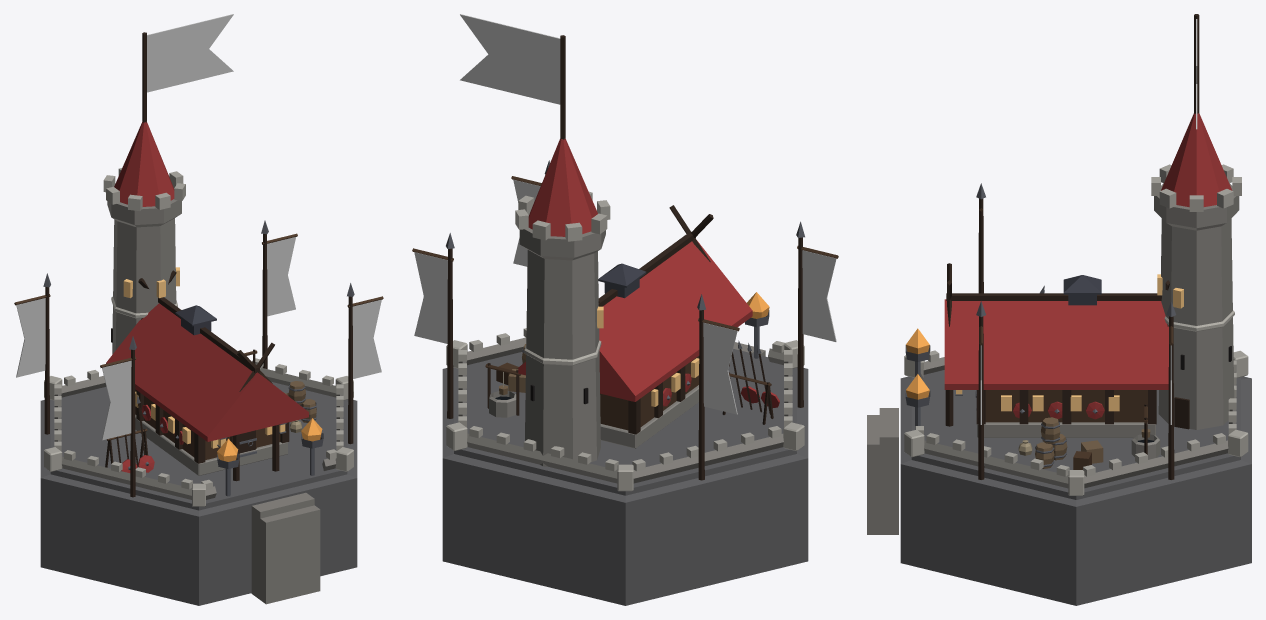
Rendered from hall.glb.
3 views of the same model, side by side, from view 1: azimuth 30°, elevation 25°; view 2: azimuth 150°, elevation 25°; view 3: azimuth 270°, elevation 25° (orthographic). The views are drawn at different scales.
Visible parts, largest first — view 1: hall, hall close!fine, great banner, corner banner 0, corner banner 2, corner banner 3, corner banner 1; view 2: hall, hall close!fine, great banner, corner banner 0, corner banner 2, corner banner 3, corner banner 1; view 3: hall, hall close!fine.
Part boxes in pixels (x1,y1,x2,y2): hall: [14, 32, 383, 605]; hall close!fine: [54, 296, 343, 499]; great banner: [147, 14, 233, 92]; corner banner 0: [102, 360, 131, 440]; corner banner 2: [16, 298, 45, 377]; corner banner 3: [267, 237, 295, 316]; corner banner 1: [352, 299, 381, 378]; hall: [412, 35, 838, 605]; hall close!fine: [458, 328, 792, 483]; great banner: [460, 14, 560, 104]; corner banner 0: [802, 250, 836, 341]; corner banner 2: [703, 322, 737, 414]; corner banner 3: [414, 252, 447, 343]; corner banner 1: [513, 179, 540, 266]; hall: [867, 14, 1251, 605]; hall close!fine: [915, 285, 1236, 488].
Bounding box in the file's own units: 12.8 × 17.6 × 12.14.
